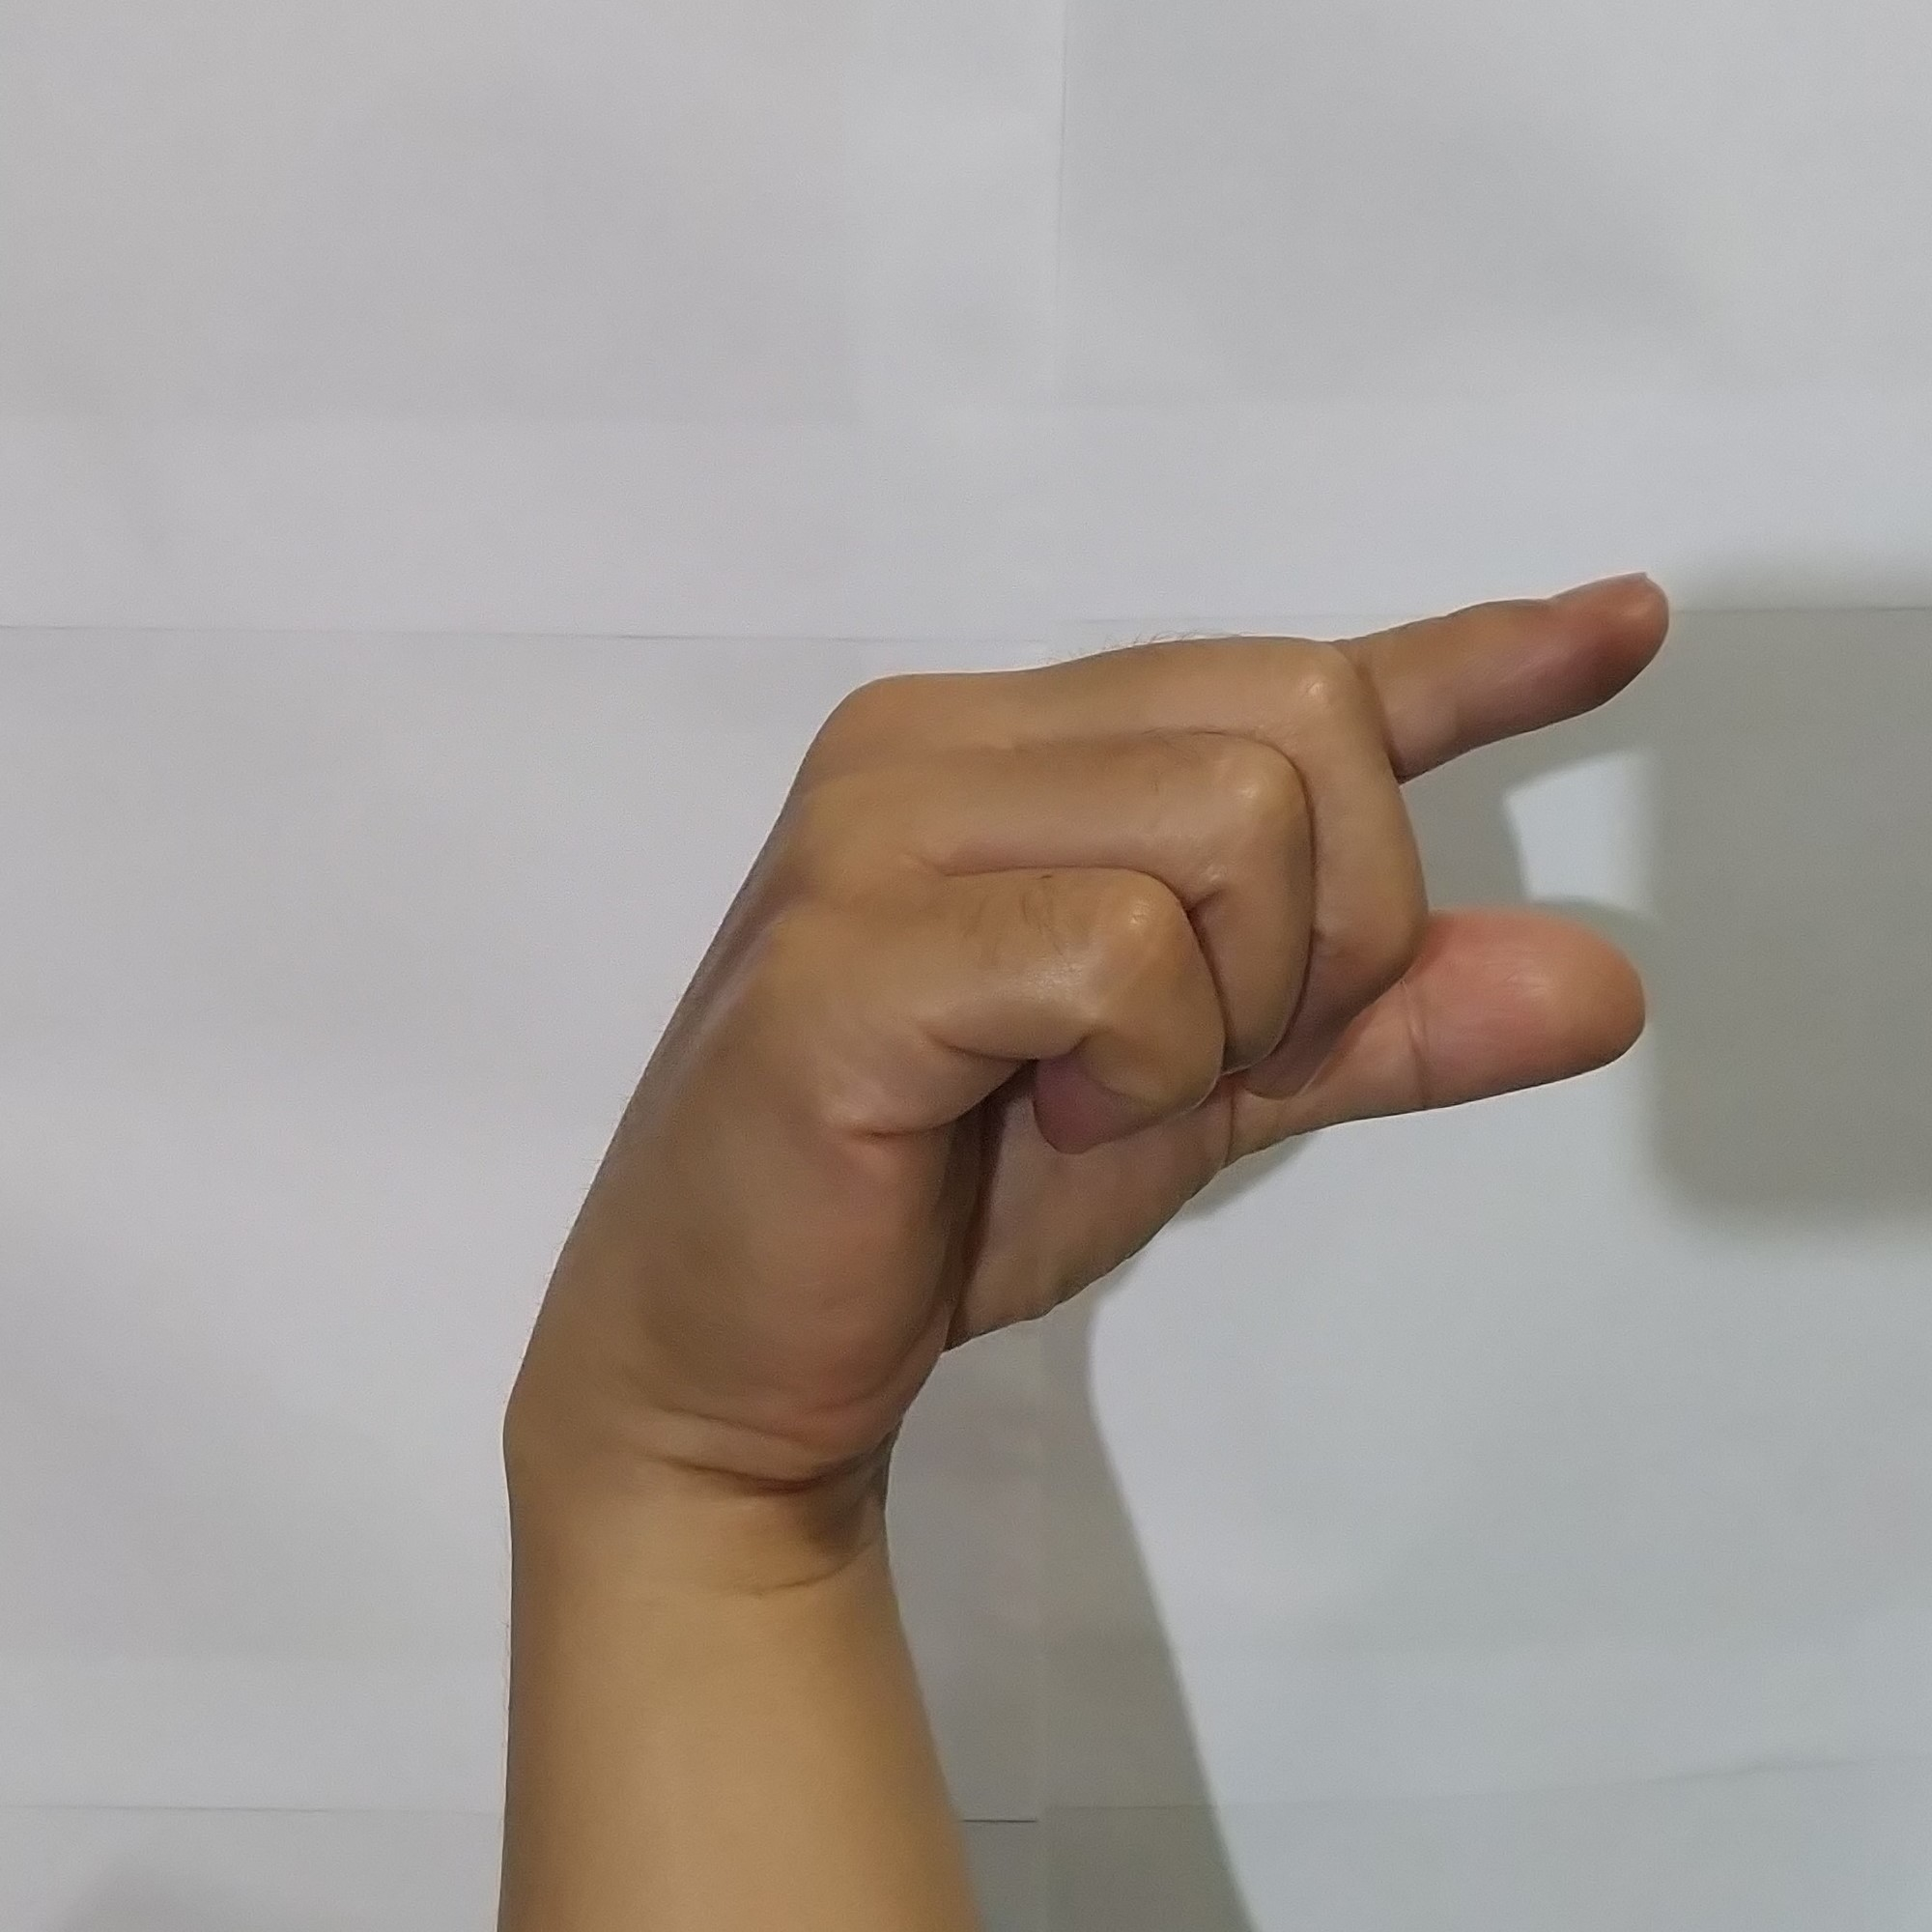G: (501, 533, 1713, 1449)
